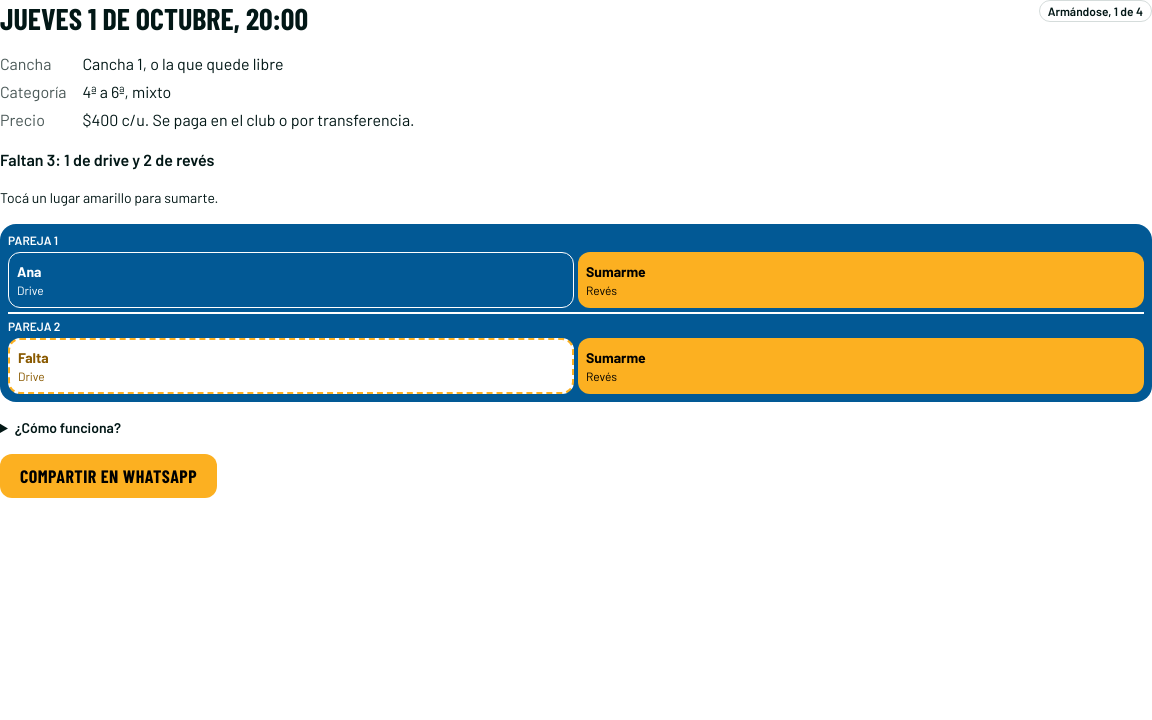
Test: MatchBoard › opens the join sheet from a spot on the court
Step 1. Click the button with aria-label "Sumarme de revés" → (616, 272), box [578,252,1144,308]
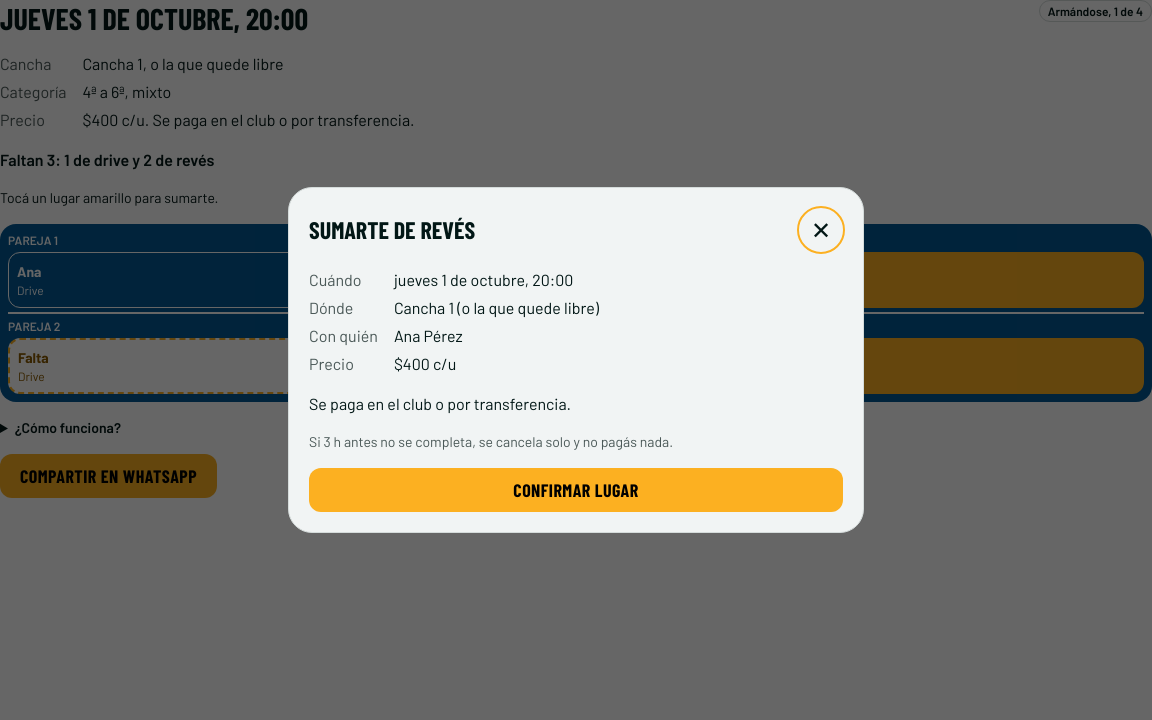
Result: the dialog "Sumarte de revés" is shown at [288,187,864,533]
